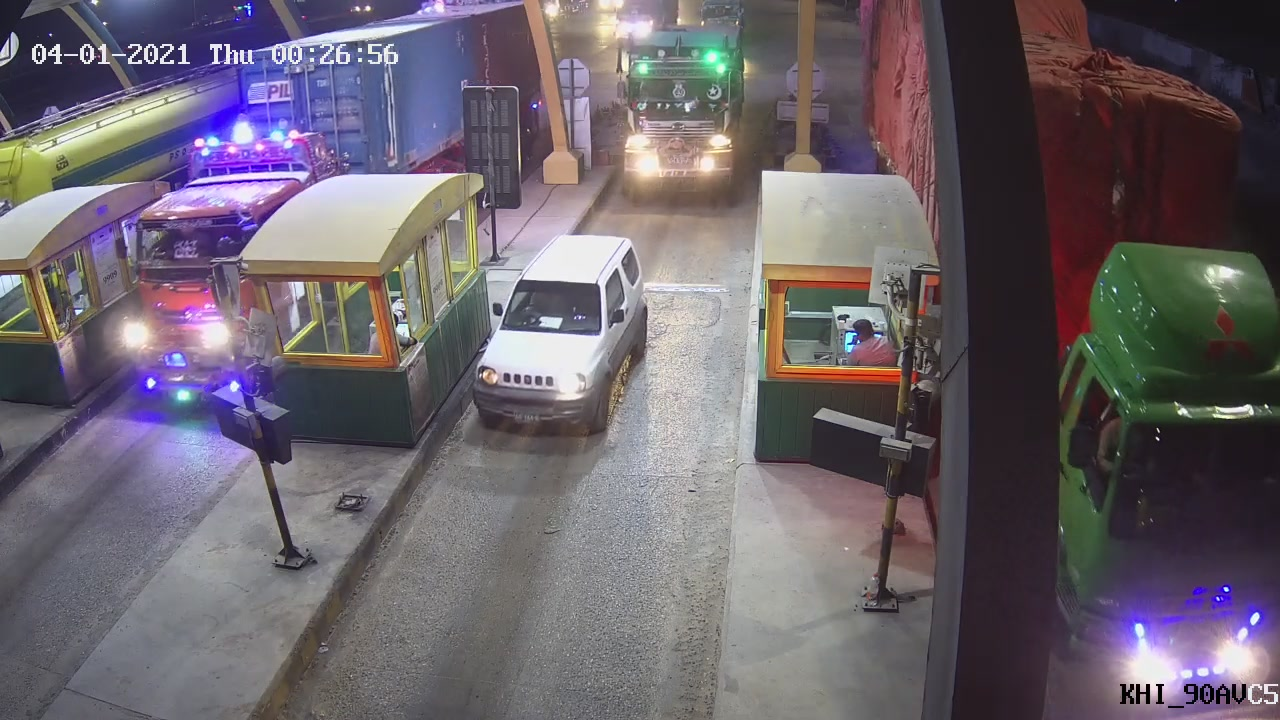F1: (471, 229, 659, 457)
F5: (595, 6, 757, 185)
